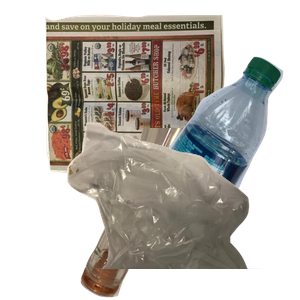glass: (78, 128, 298, 300)
paper: (42, 12, 260, 185)
plastic: (142, 54, 300, 234)
trash: (65, 120, 300, 300)
